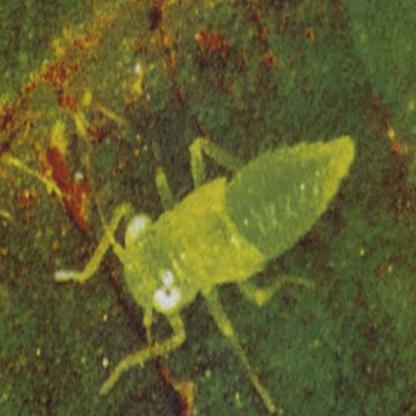Green-Leafhopper: (57, 127, 357, 396)
